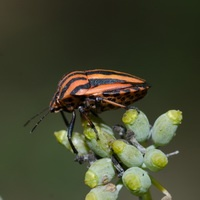insect: (49, 69, 148, 155)
